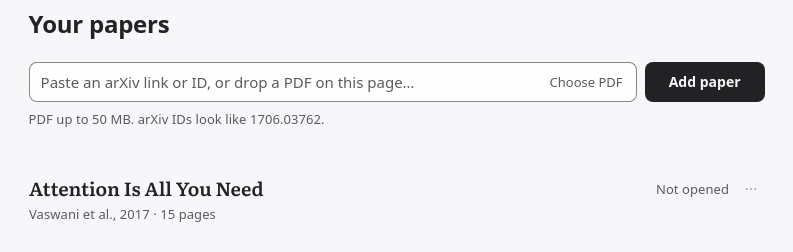
Test: Library › explains an input that isn’t an arXiv id, keeps the text, and sends nothing
Check: the link "Attention Is All You Need" is shown, box [17,164,777,235]
Type "attention is all you need" into the field labelled "arXiv link or ID".
click(285, 82); type("attention is all you need")  # box [29,62,542,102]
Then press Enter
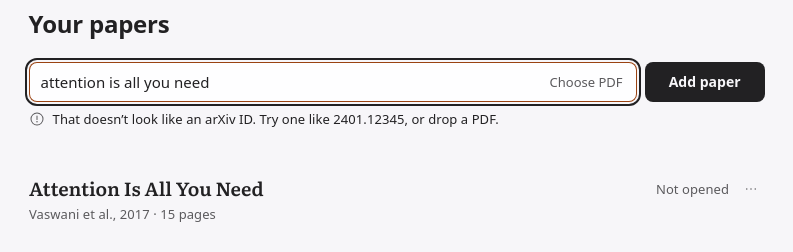
Check: the text "That doesn’t look like an arXiv ID. Try one like 2401.12345, or drop a PDF." is shown, box [53,110,499,128]
